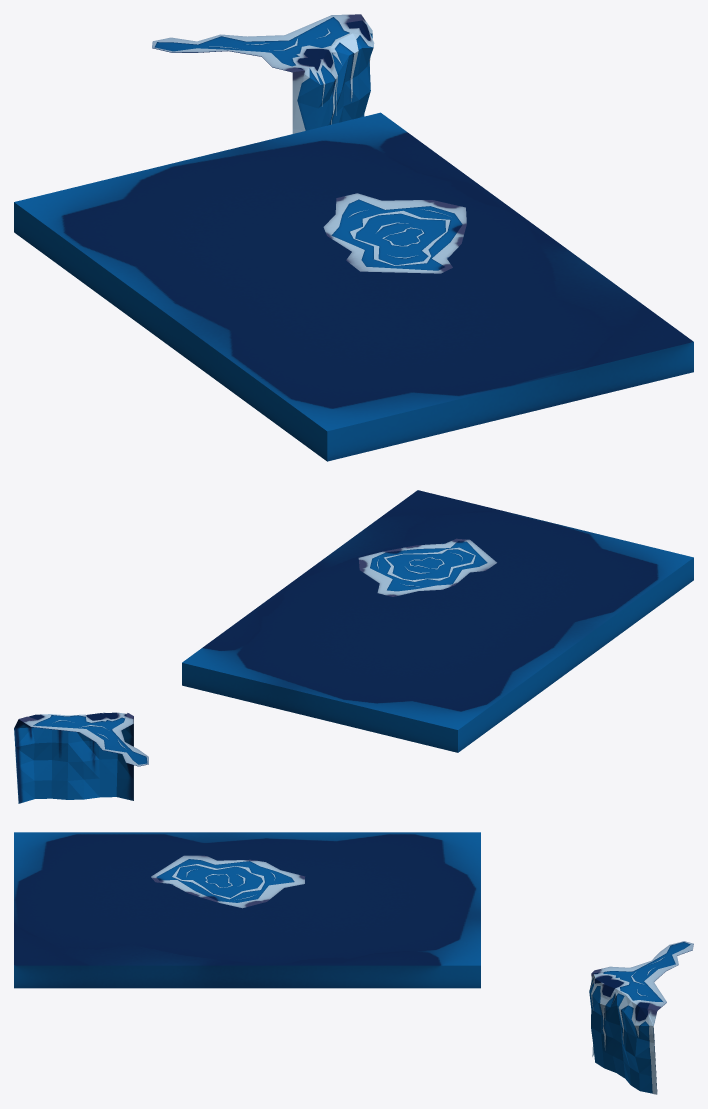
File: Water_01.FBX
3 views of the same model, one above another, from view 1: azimuth 30°, elevation 25°; view 2: azimuth 150°, elevation 25°; view 3: azimuth 270°, elevation 25° (orthographic). The views are drawn at different scales.
Visible parts, largest first — view 1: Water_01; view 2: Water_01; view 3: Water_01.
Boxes of the visible parts, <box> form: Water_01: <box>14,14,693,461</box>; Water_01: <box>14,490,693,803</box>; Water_01: <box>14,832,693,1094</box>.
Size of the model in its own units: 24.59 by 8.23 by 40.96.
